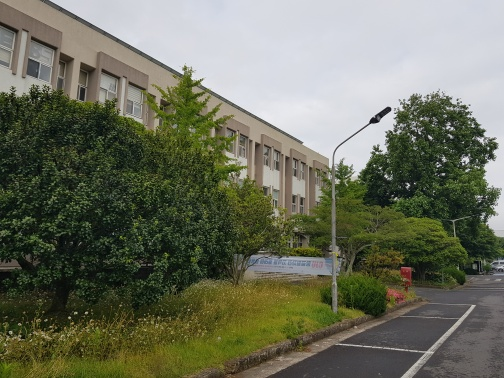Main Building of University: (21, 16, 345, 270)
